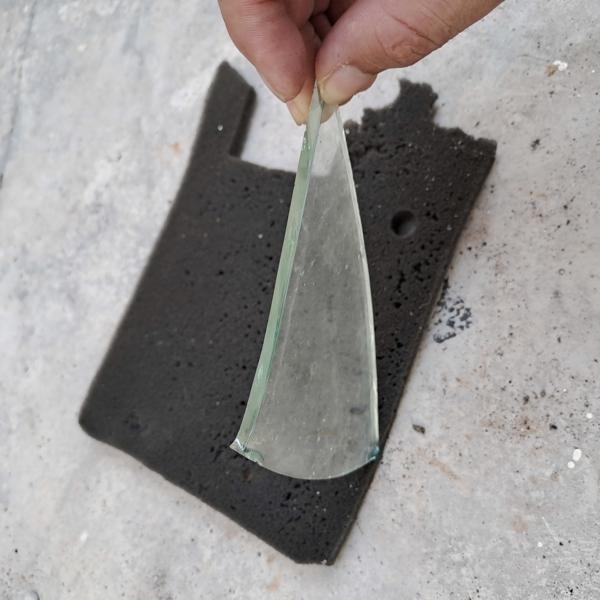Anorganik: (227, 78, 387, 482)
